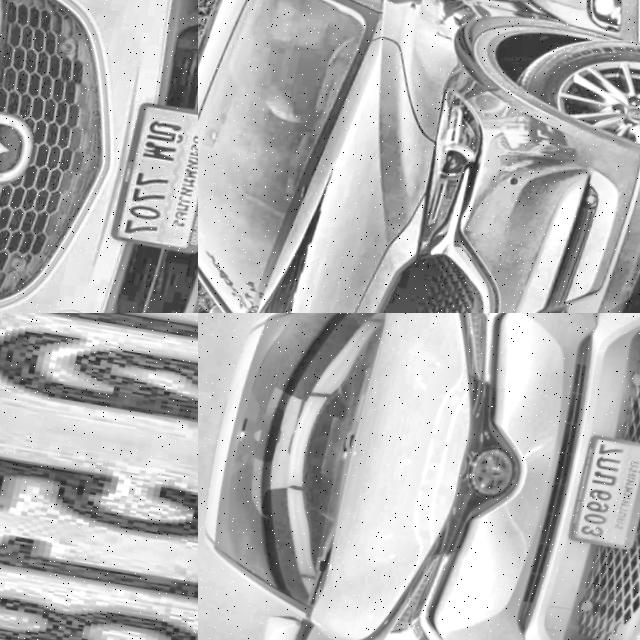license-plate: (0, 313, 198, 640), (110, 93, 198, 253), (562, 425, 640, 554)
